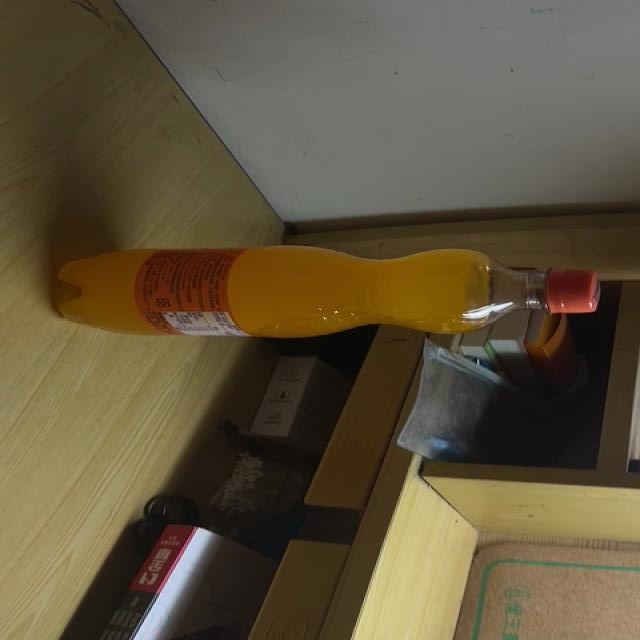Fanta: (57, 242, 600, 339)
